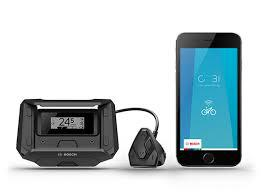Smartphone: (171, 30, 244, 175)
